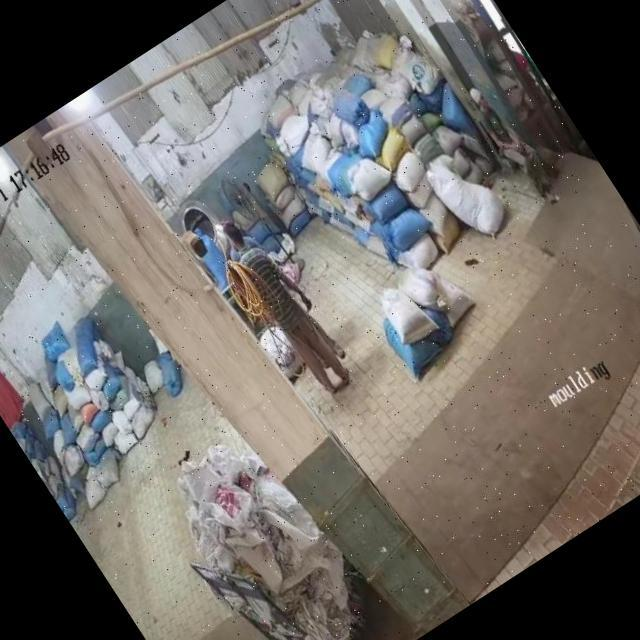person: (218, 215, 349, 394), (464, 75, 566, 214)
